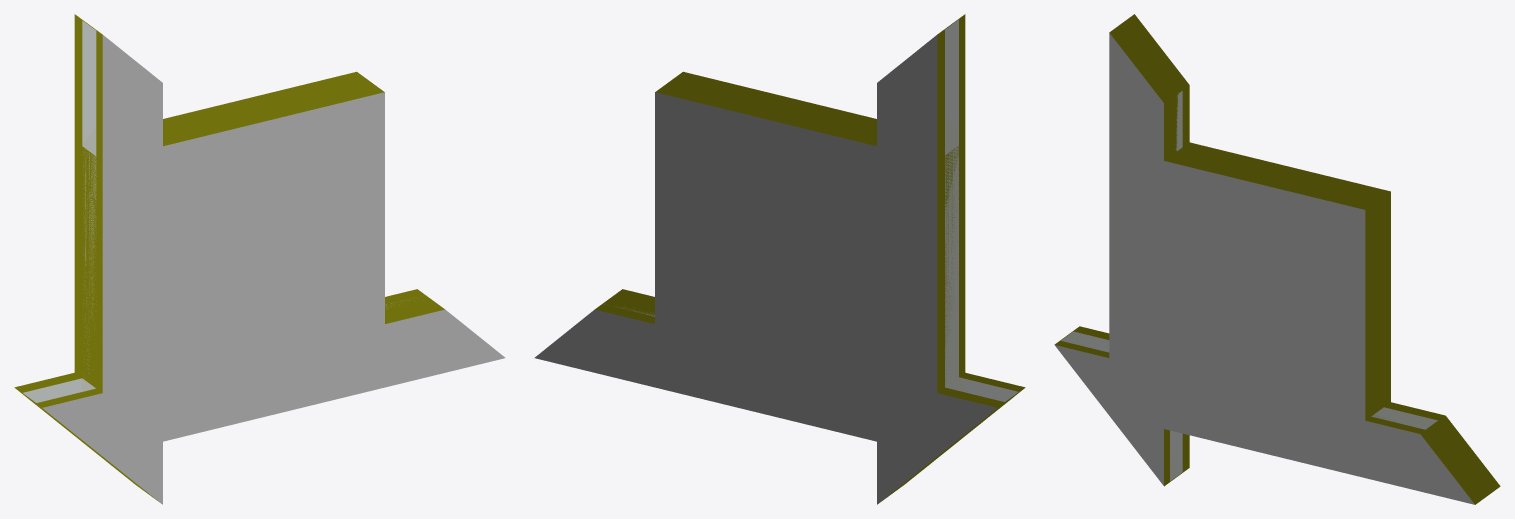
The model's file is idf.obj.
3 views of the same model, side by side, from view 1: azimuth 30°, elevation 25°; view 2: azimuth 150°, elevation 25°; view 3: azimuth 330°, elevation 25° (orthographic). The views are drawn at different scales.
Bounding box in the file's own units: 35.05 × 35.05 × 3.66.
